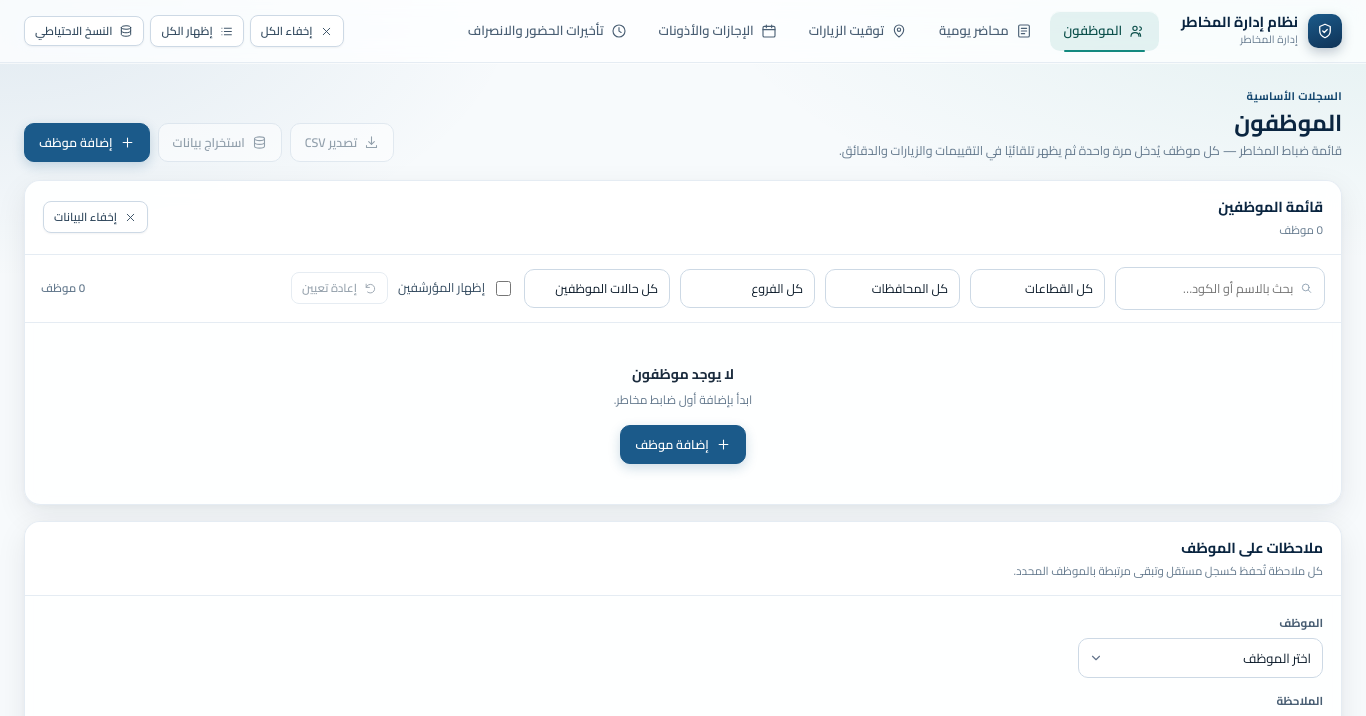
Test: إضافة موظف › يحفظ موظفًا جديدًا ويظهره في الجدول
Click the 1st button "إضافة موظف": (87, 142) [24,123,150,162]
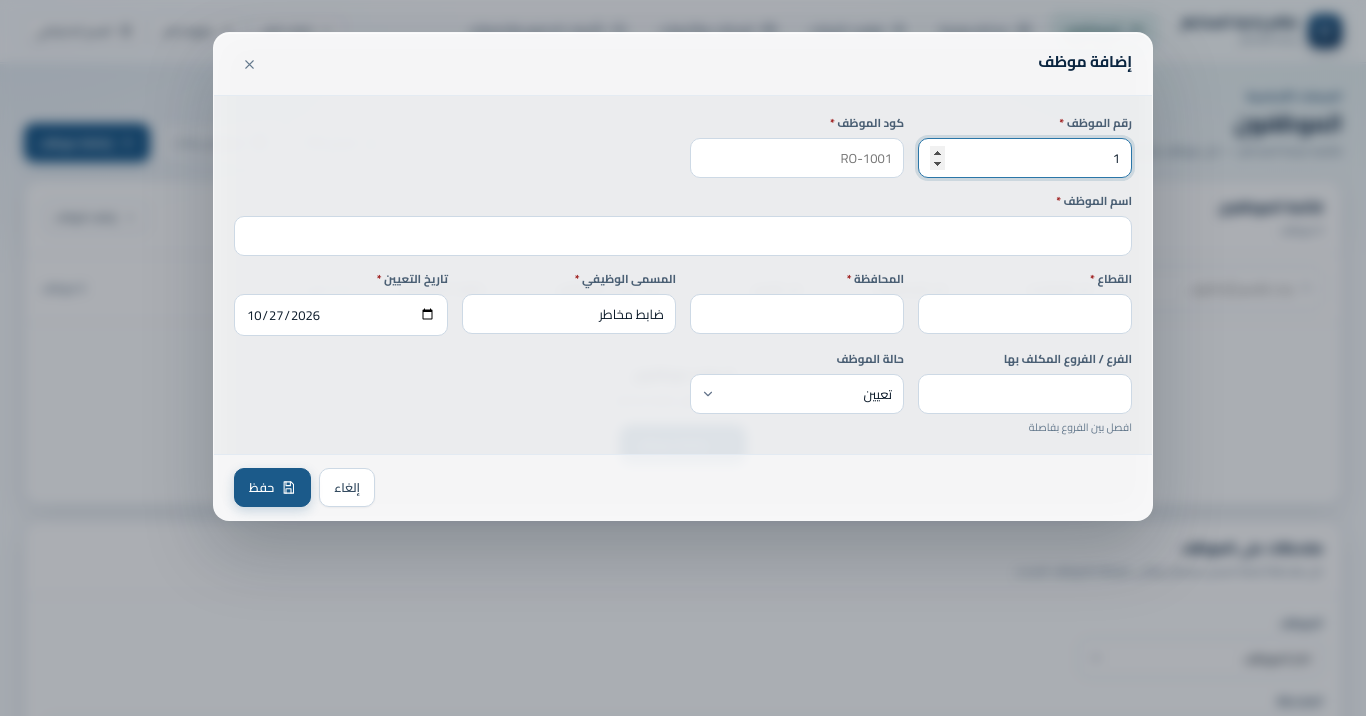
In the field with id "emp-name": (683, 236) [234,216,1132,256], type "هدى سامي"
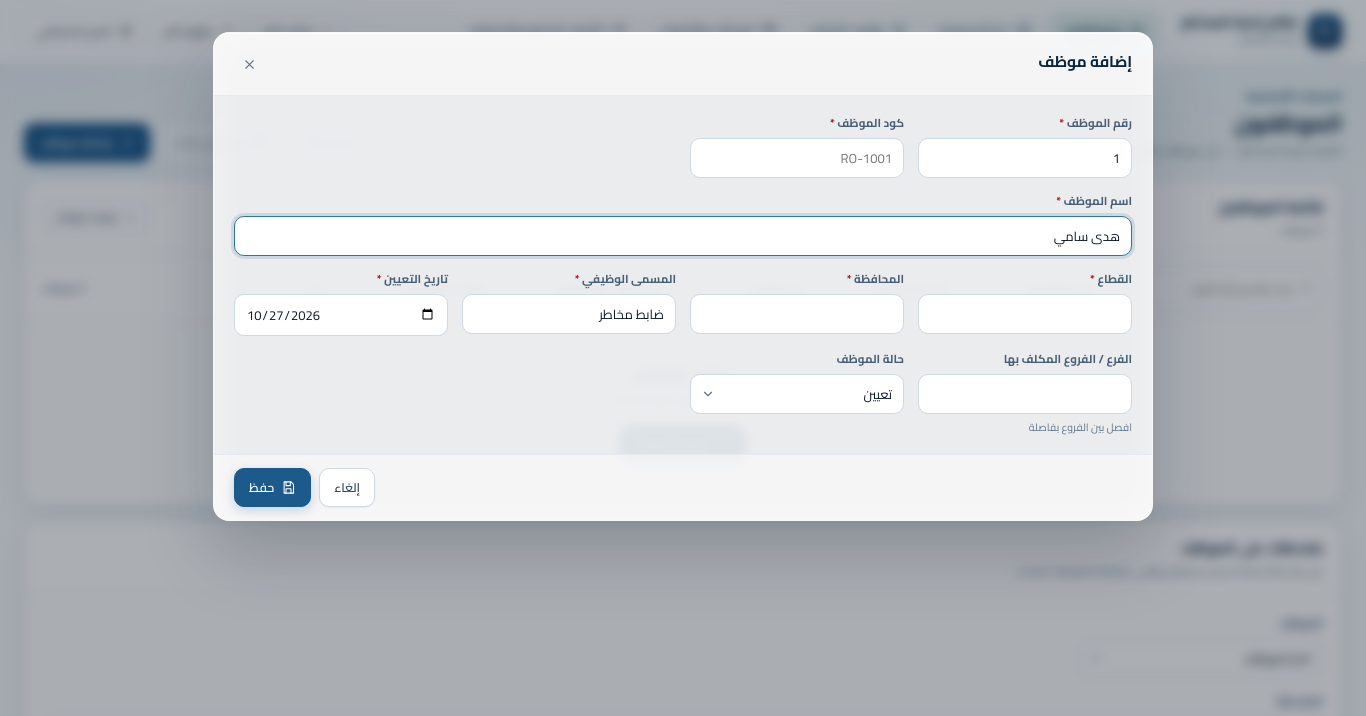
In the field with id "emp-code": (797, 158) [690,138,904,178], type "RO-777"
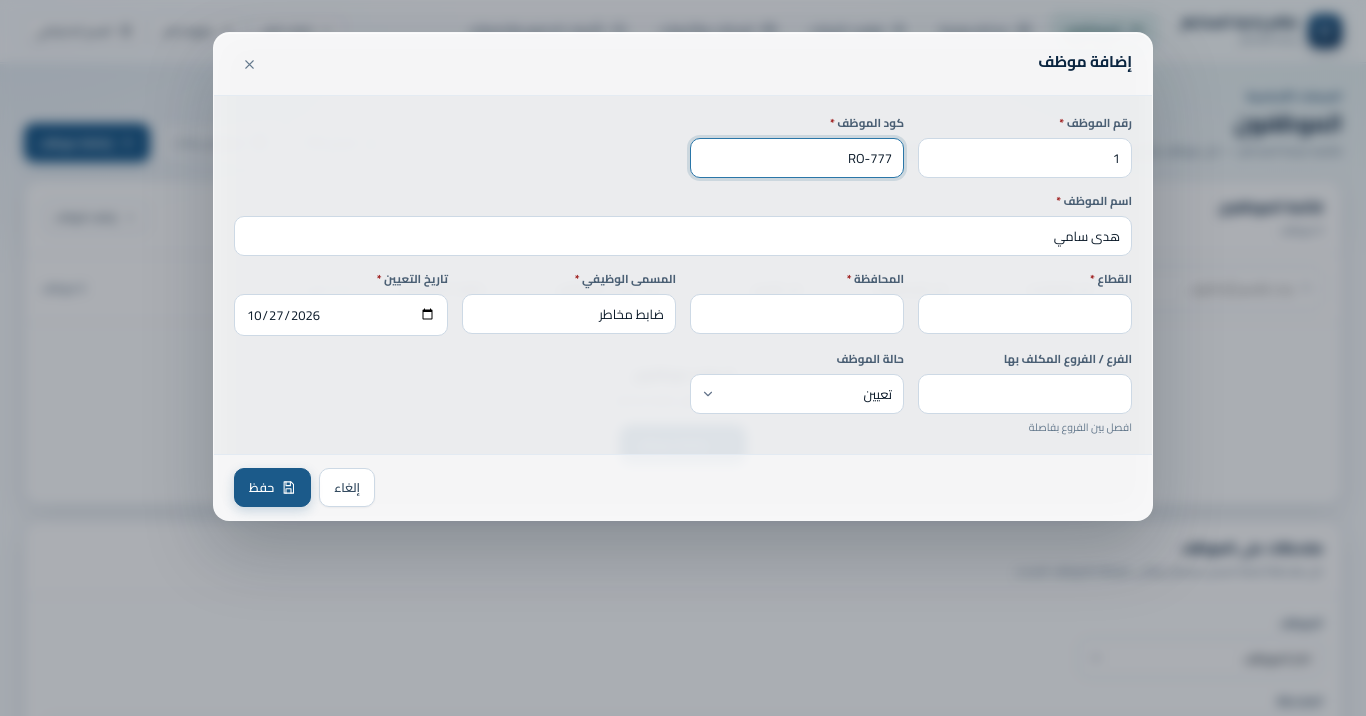
In the field with id "emp-sector": (1025, 314) [918,294,1132,334], type "قطاع الدلتا"
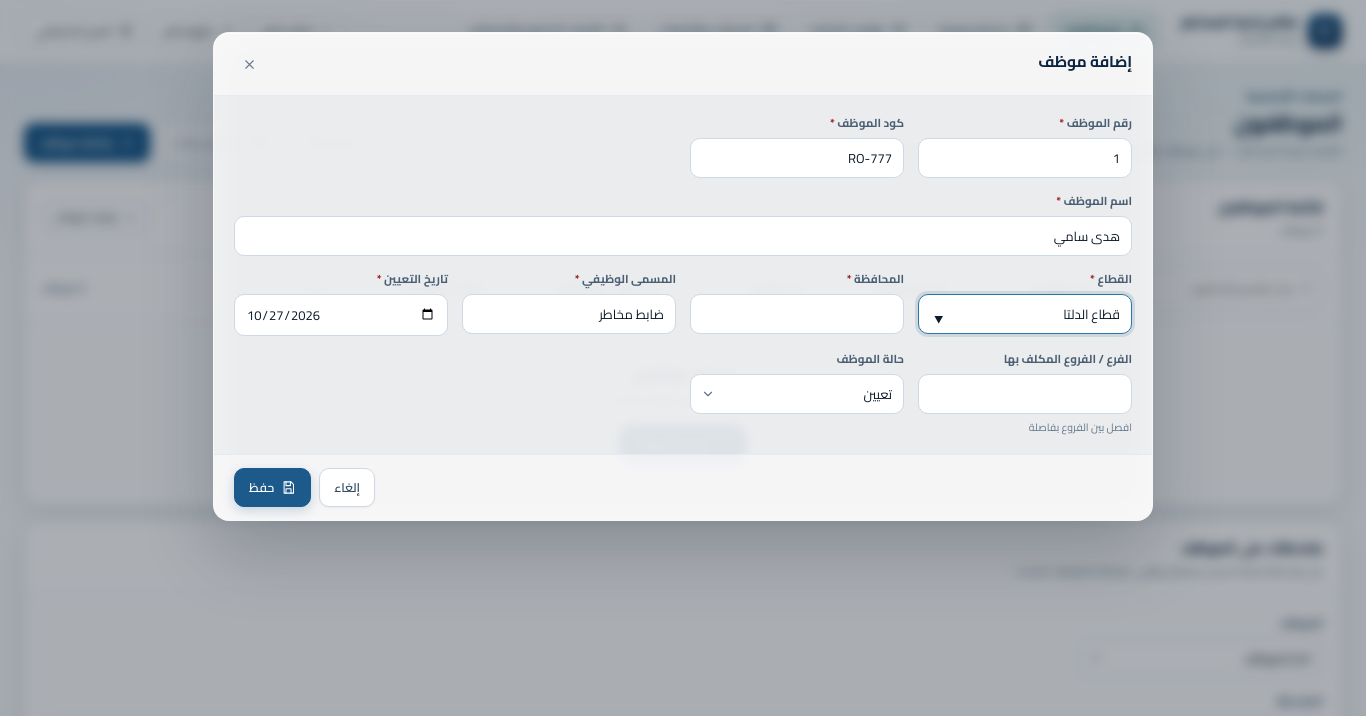
In the field with id "emp-gov": (797, 314) [690,294,904,334], type "الغربية"
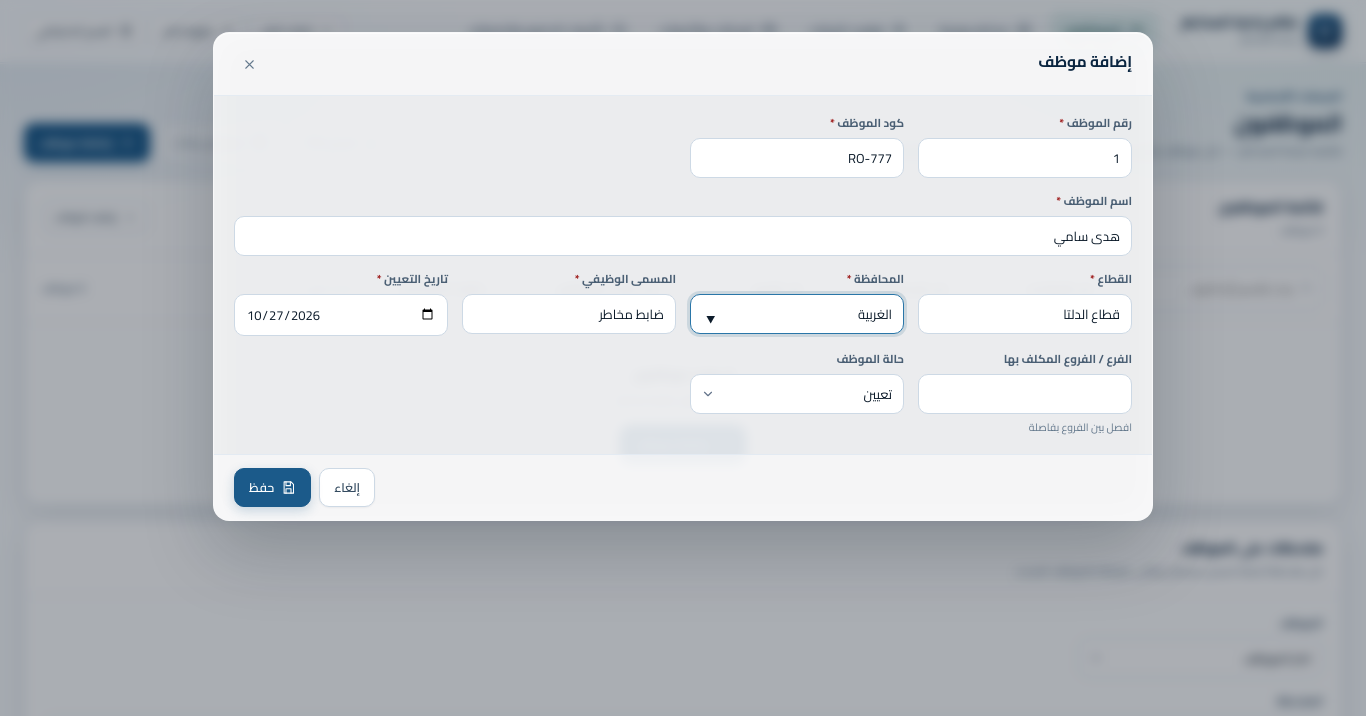
Click the button "حفظ": (273, 488) [234,468,311,507]
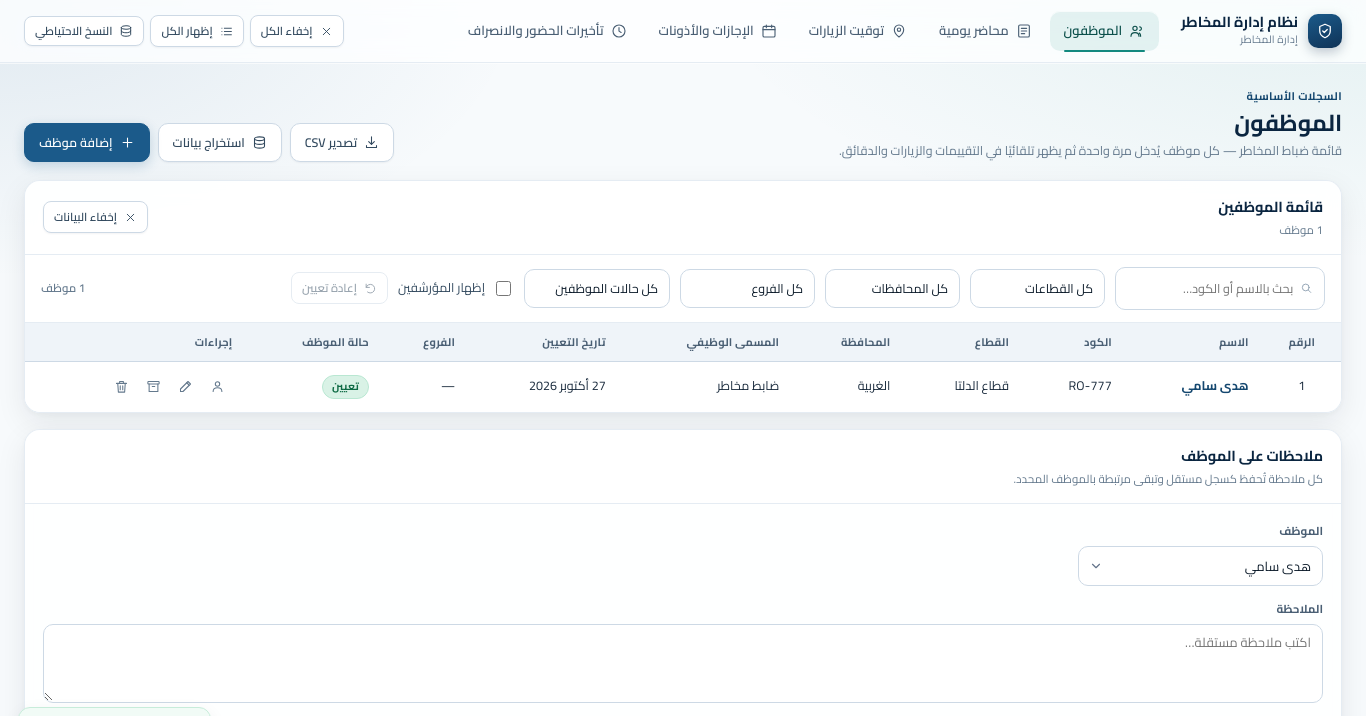
expect the dialog is gone: met
expect the link "هدى سامي" is shown: met, box [1182,374,1249,397]
expect the text "RO-777" is shown: met, box [1023,362,1126,412]
